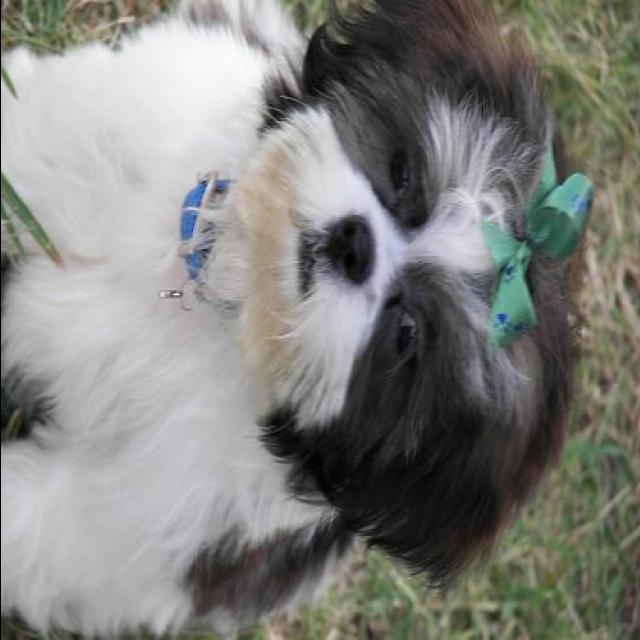shih_tzu: (2, 1, 586, 636)
